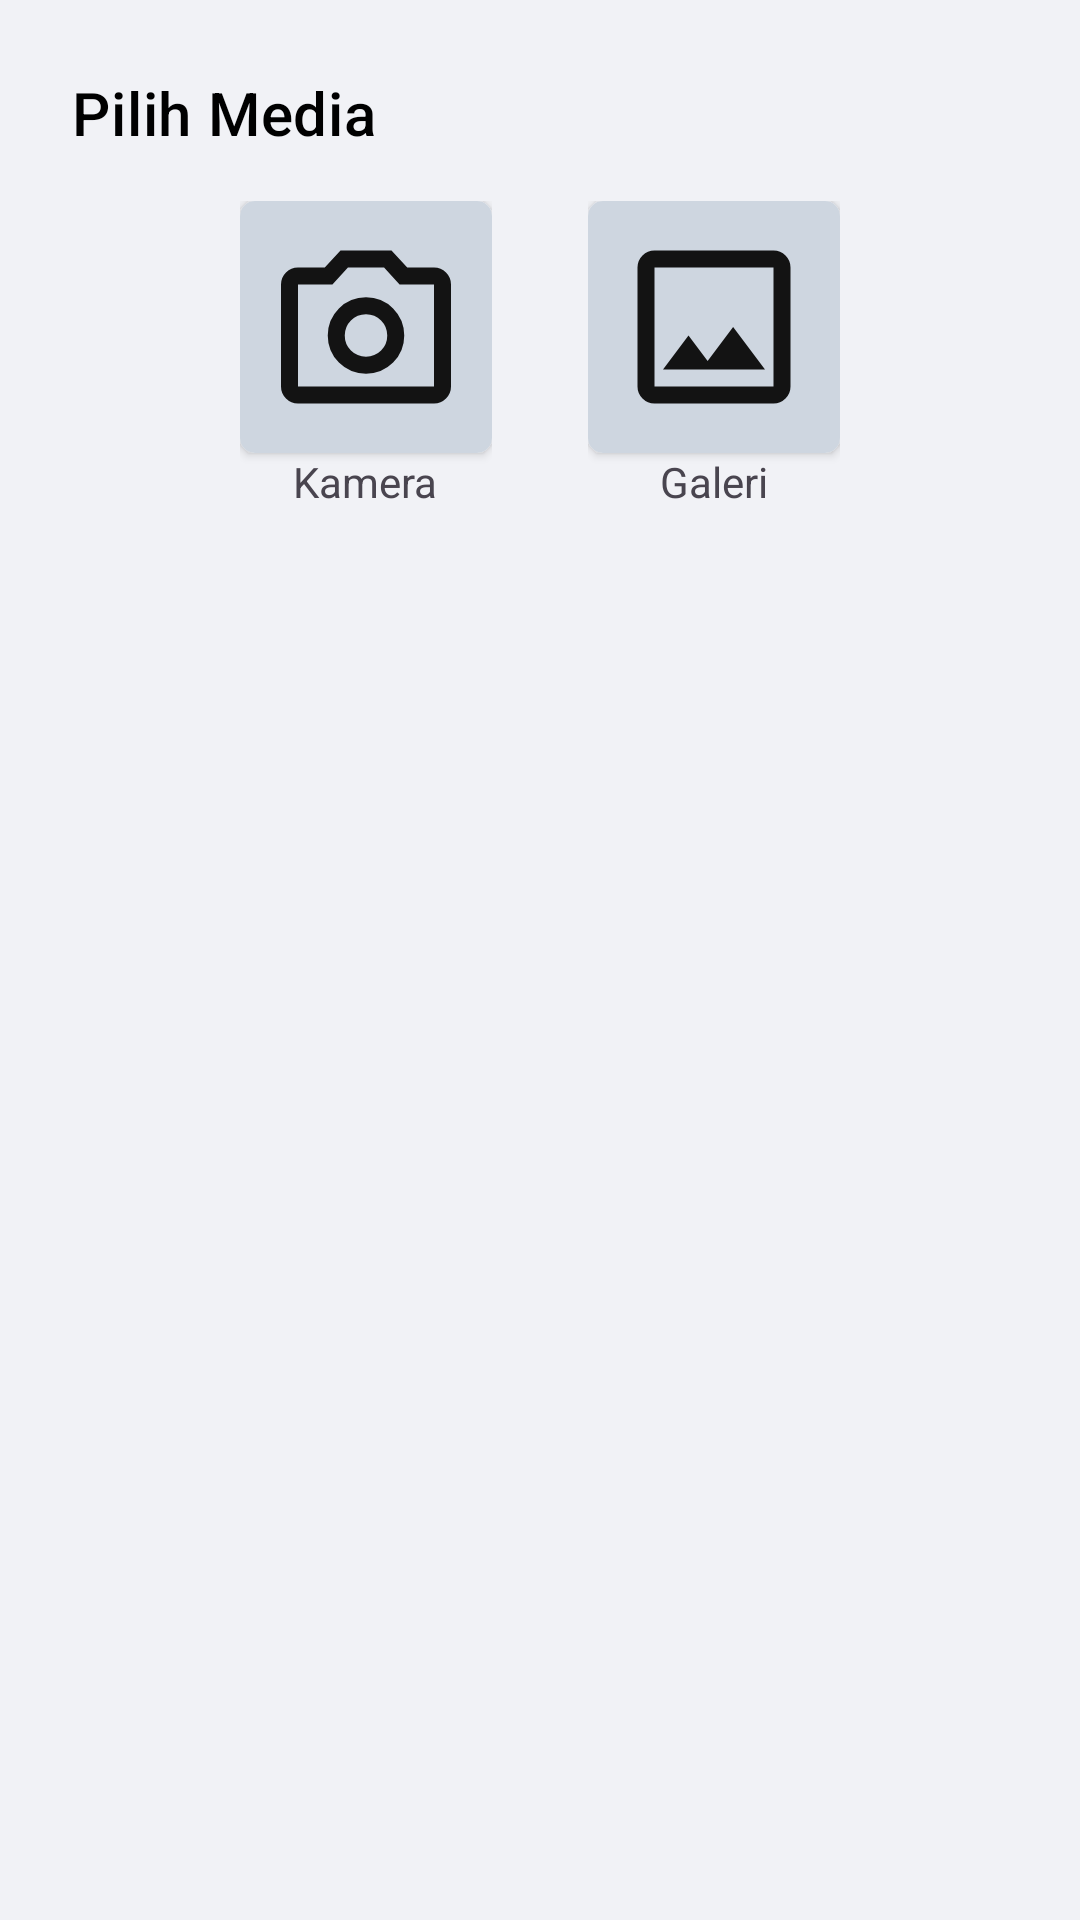

Point at icon controls on the screen. Image size 1080px×1920px, points as [x,y].
camera: [366,327]
photo: [714,327]
